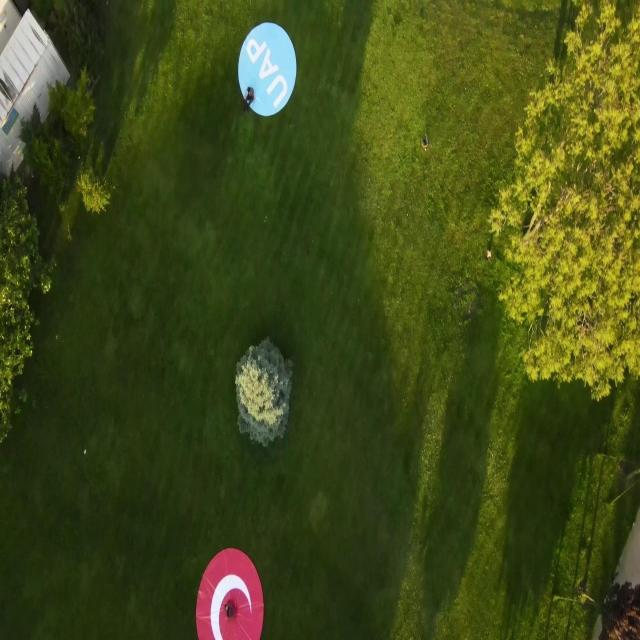p3rson: (243, 86, 255, 114), (224, 598, 236, 620)
